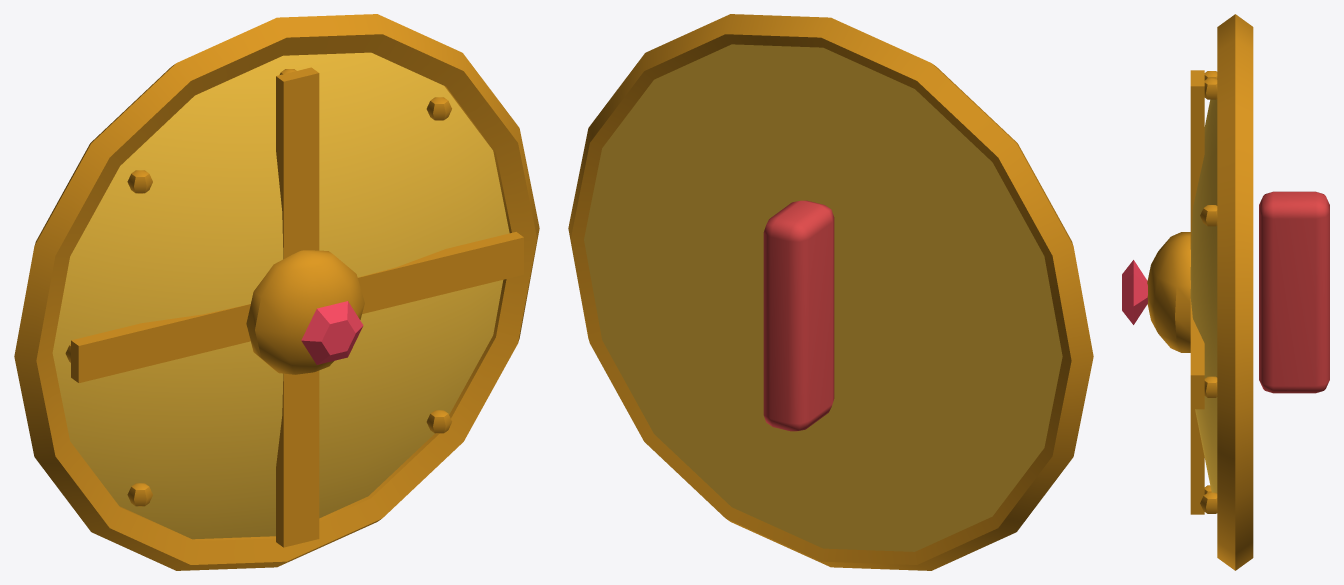
The model's file is GoldShield.fbx.
3 renders of one model, left to right at view 1: azimuth 30°, elevation 25°; view 2: azimuth 150°, elevation 25°; view 3: azimuth 270°, elevation 25°, orthographic. The views are drawn at different scales.
Parts seen in each view (by area): view 1: GoldShield; view 2: GoldShield; view 3: GoldShield.
Part boxes in pixels (x1,y1,x2,y2): GoldShield: (14, 14, 539, 570); GoldShield: (568, 14, 1093, 570); GoldShield: (1122, 14, 1329, 570).
Size of the model in its own units: 2.36 by 2.36 by 0.88.
Materials: 1 (1 with a texture image).
